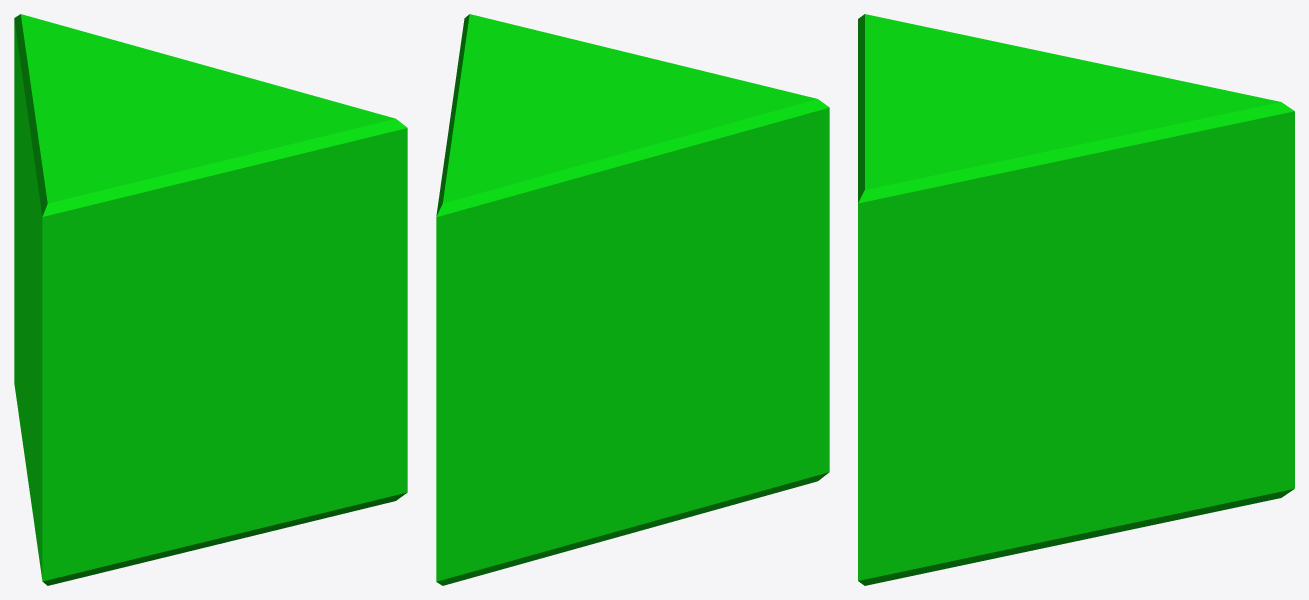
Rendered from triangle.fbx.
The picture shows the model from 3 angles, left to right: view 1: azimuth 30°, elevation 25°; view 2: azimuth 150°, elevation 25°; view 3: azimuth 270°, elevation 25°; orthographic projection. The views are drawn at different scales.
Parts seen in each view (by area): view 1: Triangle; view 2: Triangle; view 3: Triangle.
Part boxes in pixels (x1,y1,x2,y2): Triangle: (14,14,407,585); Triangle: (436,14,829,585); Triangle: (858,14,1294,585).
Size of the model in its own units: 0.15 by 0.15 by 0.15.
